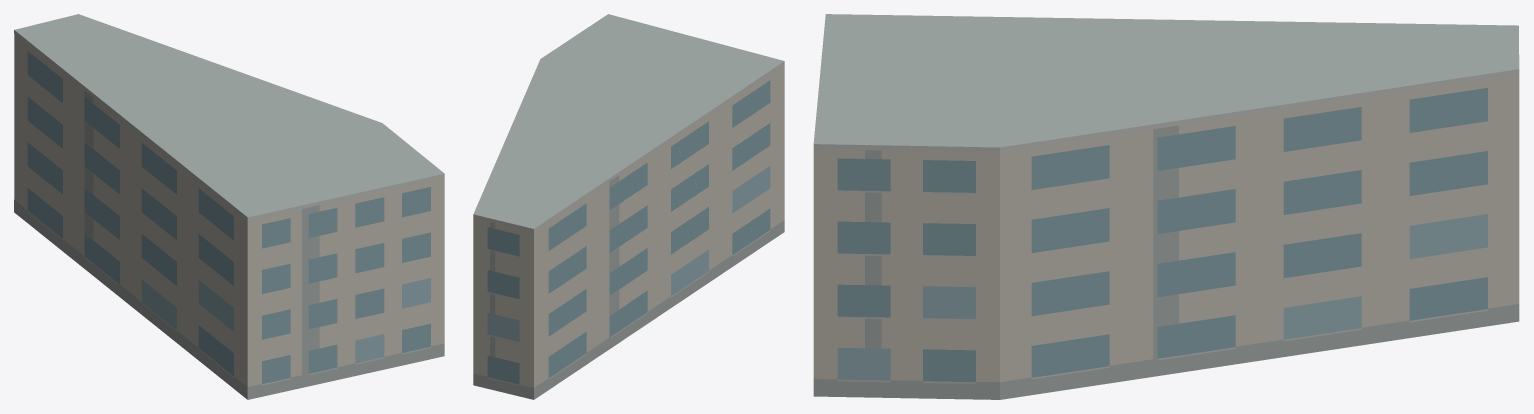
The model's file is survey-upis-33041792.glb.
3 renders of one model, left to right at view 1: azimuth 30°, elevation 25°; view 2: azimuth 150°, elevation 25°; view 3: azimuth 270°, elevation 25°, orthographic. The views are drawn at different scales.
Parts seen in each view (by area): view 1: survey-upis-33041792.tmp; view 2: survey-upis-33041792.tmp; view 3: survey-upis-33041792.tmp.
Part boxes in pixels (x1=…): survey-upis-33041792.tmp: x1=14, y1=14, x2=444, y2=399; survey-upis-33041792.tmp: x1=473, y1=14, x2=784, y2=399; survey-upis-33041792.tmp: x1=813, y1=14, x2=1519, y2=399.
Size of the model in its own units: 13.84 by 12.2 by 30.93.
